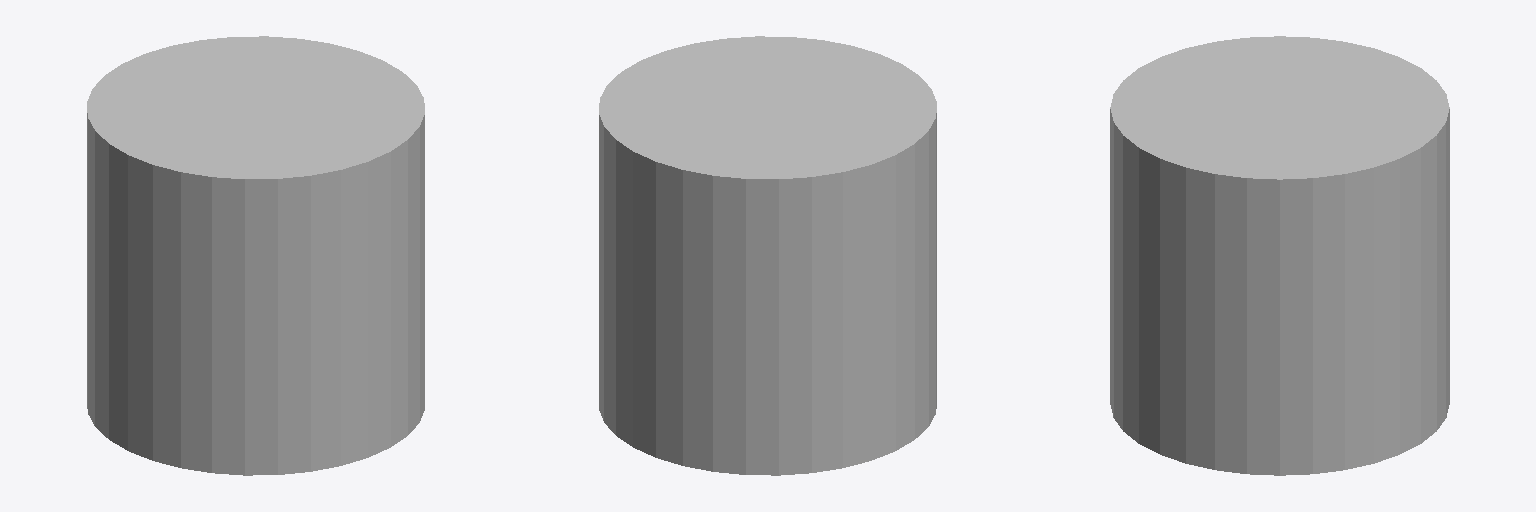
The model's file is TwoZoneHead_WallMesh.obj.
3 views of the same model, side by side, from view 1: azimuth 30°, elevation 25°; view 2: azimuth 150°, elevation 25°; view 3: azimuth 270°, elevation 25° (orthographic).
Visible parts, largest first — view 1: Cylinder.002; view 2: Cylinder.002; view 3: Cylinder.002.
Boxes of the visible parts, x1=… form: Cylinder.002: x1=87, y1=36, x2=424, y2=475; Cylinder.002: x1=599, y1=36, x2=936, y2=475; Cylinder.002: x1=1110, y1=36, x2=1449, y2=475.
Size of the model in its own units: 12.5 by 12.03 by 12.5.